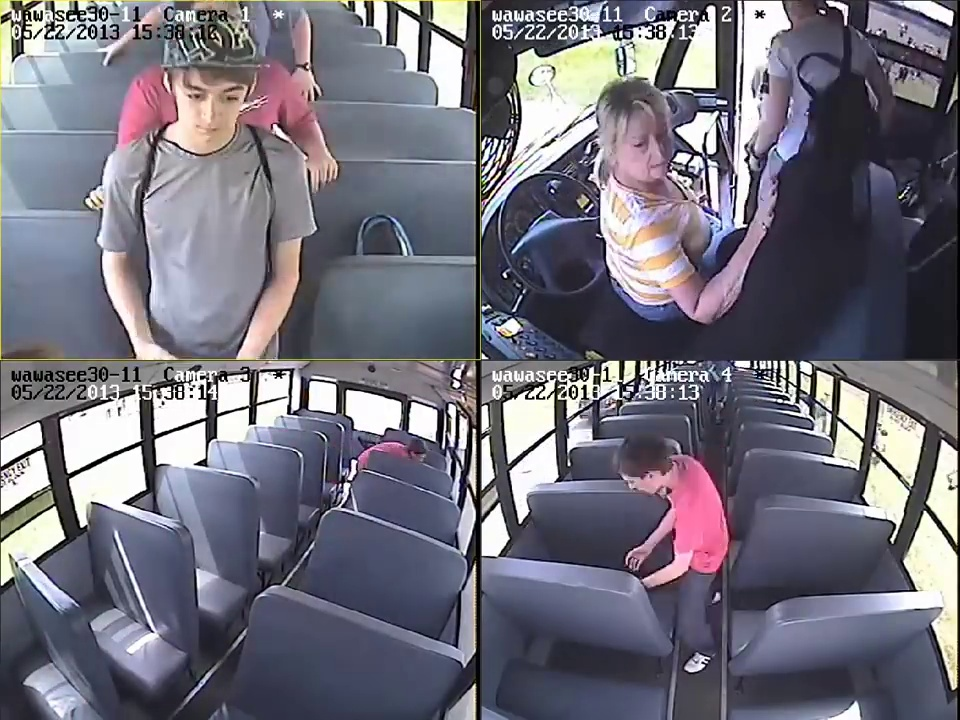face: (610, 101, 676, 190), (176, 72, 247, 142)
